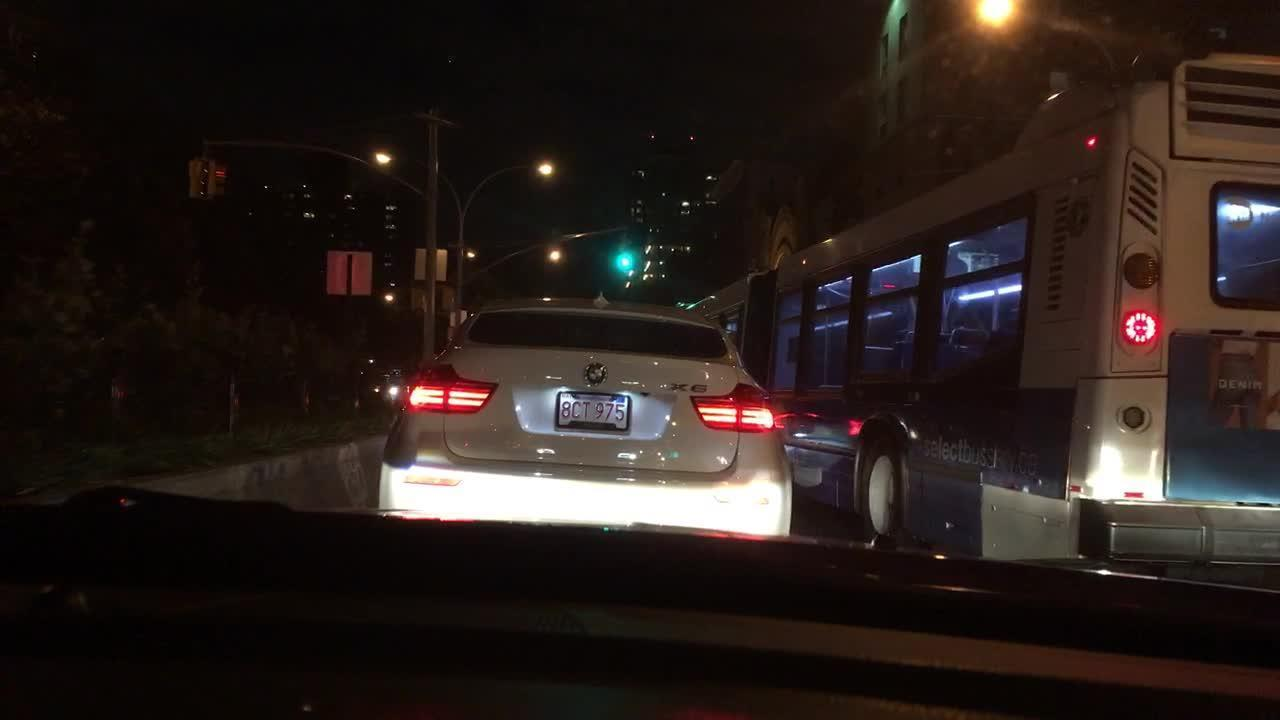bmw: (571, 353, 612, 394)
